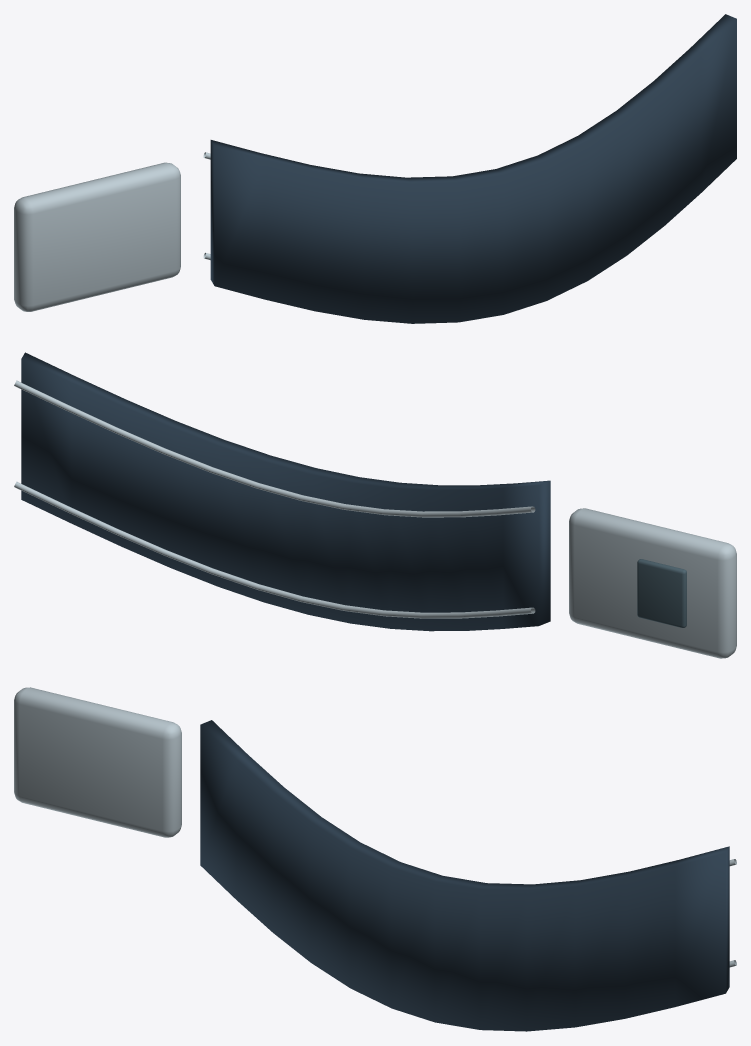
File: belt-right.glb
3 views of the same model, one above another, from view 1: azimuth 30°, elevation 25°; view 2: azimuth 150°, elevation 25°; view 3: azimuth 330°, elevation 25° (orthographic).
Parts seen in each view (by area): view 1: belt-right; view 2: belt-right; view 3: belt-right.
Part boxes in pixels (x1=…): belt-right: x1=14, y1=14, x2=736, y2=323; belt-right: x1=14, y1=352, x2=736, y2=658; belt-right: x1=14, y1=687, x2=736, y2=1031.
Size of the model in its own units: 0.2076 by 0.059 by 0.023.
